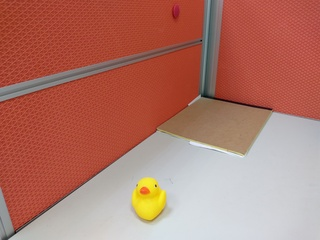duck: (127, 176, 170, 225)
